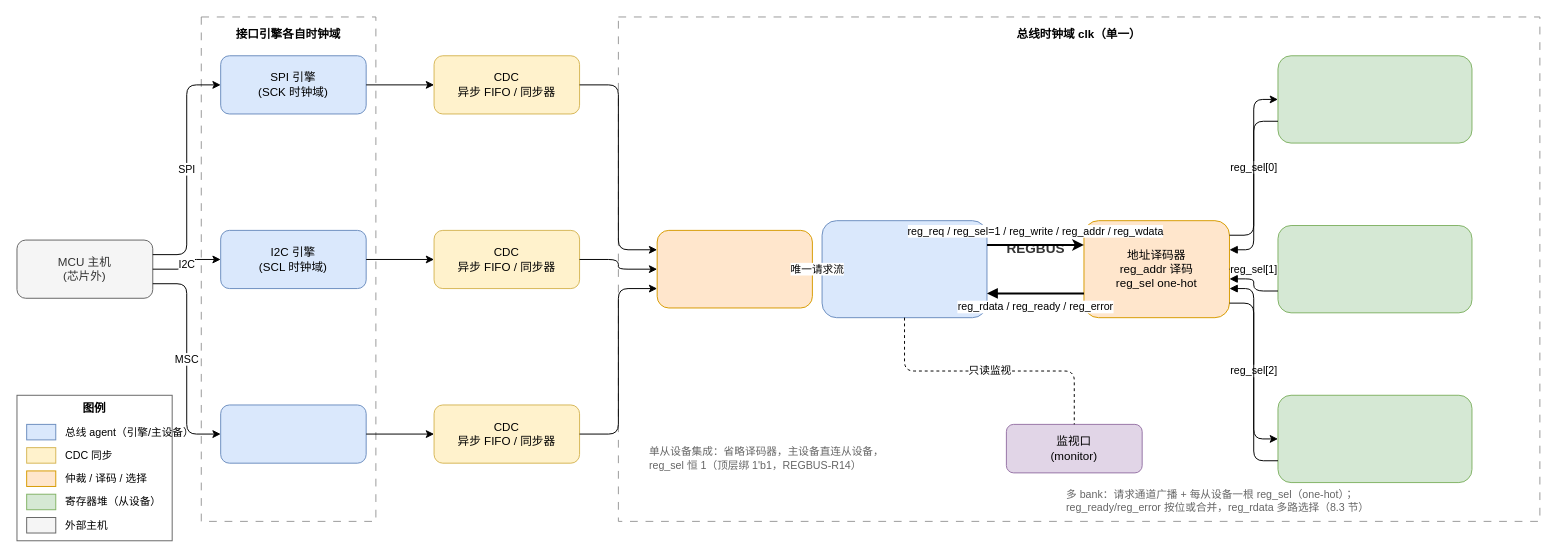
The diagram is 1557 pixels wide and 558 high, and some of its shapes have lost their labels. Here are the shapes that lost their labels. From the top down, the centre of each, then its label:
At pixel 1374 99: "寄存器堆 bank0 (slave)".
At pixel 734 268: "仲裁 / 选择 (多选一)".
At pixel 904 269: "REGBUS 主设备 (master 适配器) 恒驱动 reg_sel=1".
At pixel 1374 269: "寄存器堆 bank1 (slave)".
At pixel 293 433: "MSC 引擎 (接口时钟域)".
At pixel 1374 438: "寄存器堆 bank2 (slave)".
